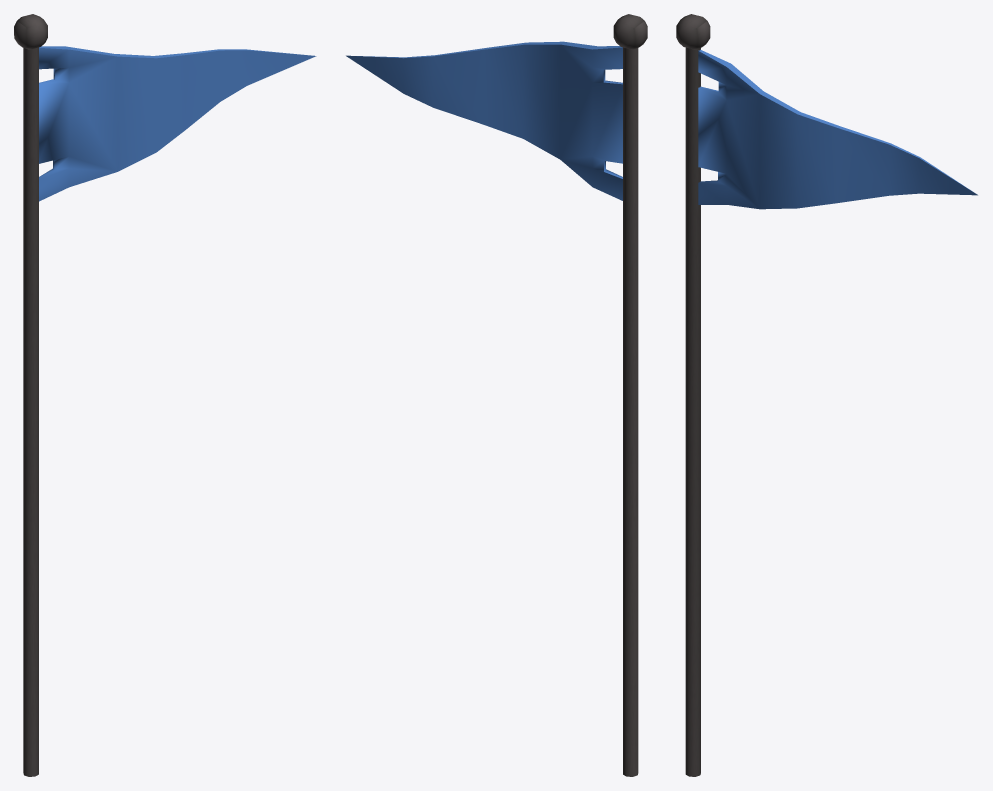
Rendered from Vlag.fbx.
The picture shows the model from 3 angles, left to right: view 1: azimuth 30°, elevation 25°; view 2: azimuth 150°, elevation 25°; view 3: azimuth 330°, elevation 25°; orthographic projection.
Parts seen in each view (by area): view 1: Cube, Cylinder, Sphere; view 2: Cube, Cylinder, Sphere; view 3: Cube, Cylinder, Sphere.
Part boxes in pixels (x1,y1,x2,y2): Cube: (39, 46, 316, 201); Cylinder: (23, 47, 38, 776); Sphere: (14, 14, 47, 49); Cube: (346, 41, 622, 200); Cylinder: (623, 47, 638, 776); Sphere: (613, 14, 647, 49); Cube: (698, 49, 977, 209); Cylinder: (685, 47, 700, 776); Sphere: (676, 14, 710, 49).
Size of the model in its own units: 406 by 980 by 44.41.
2 materials, 1 textured.
